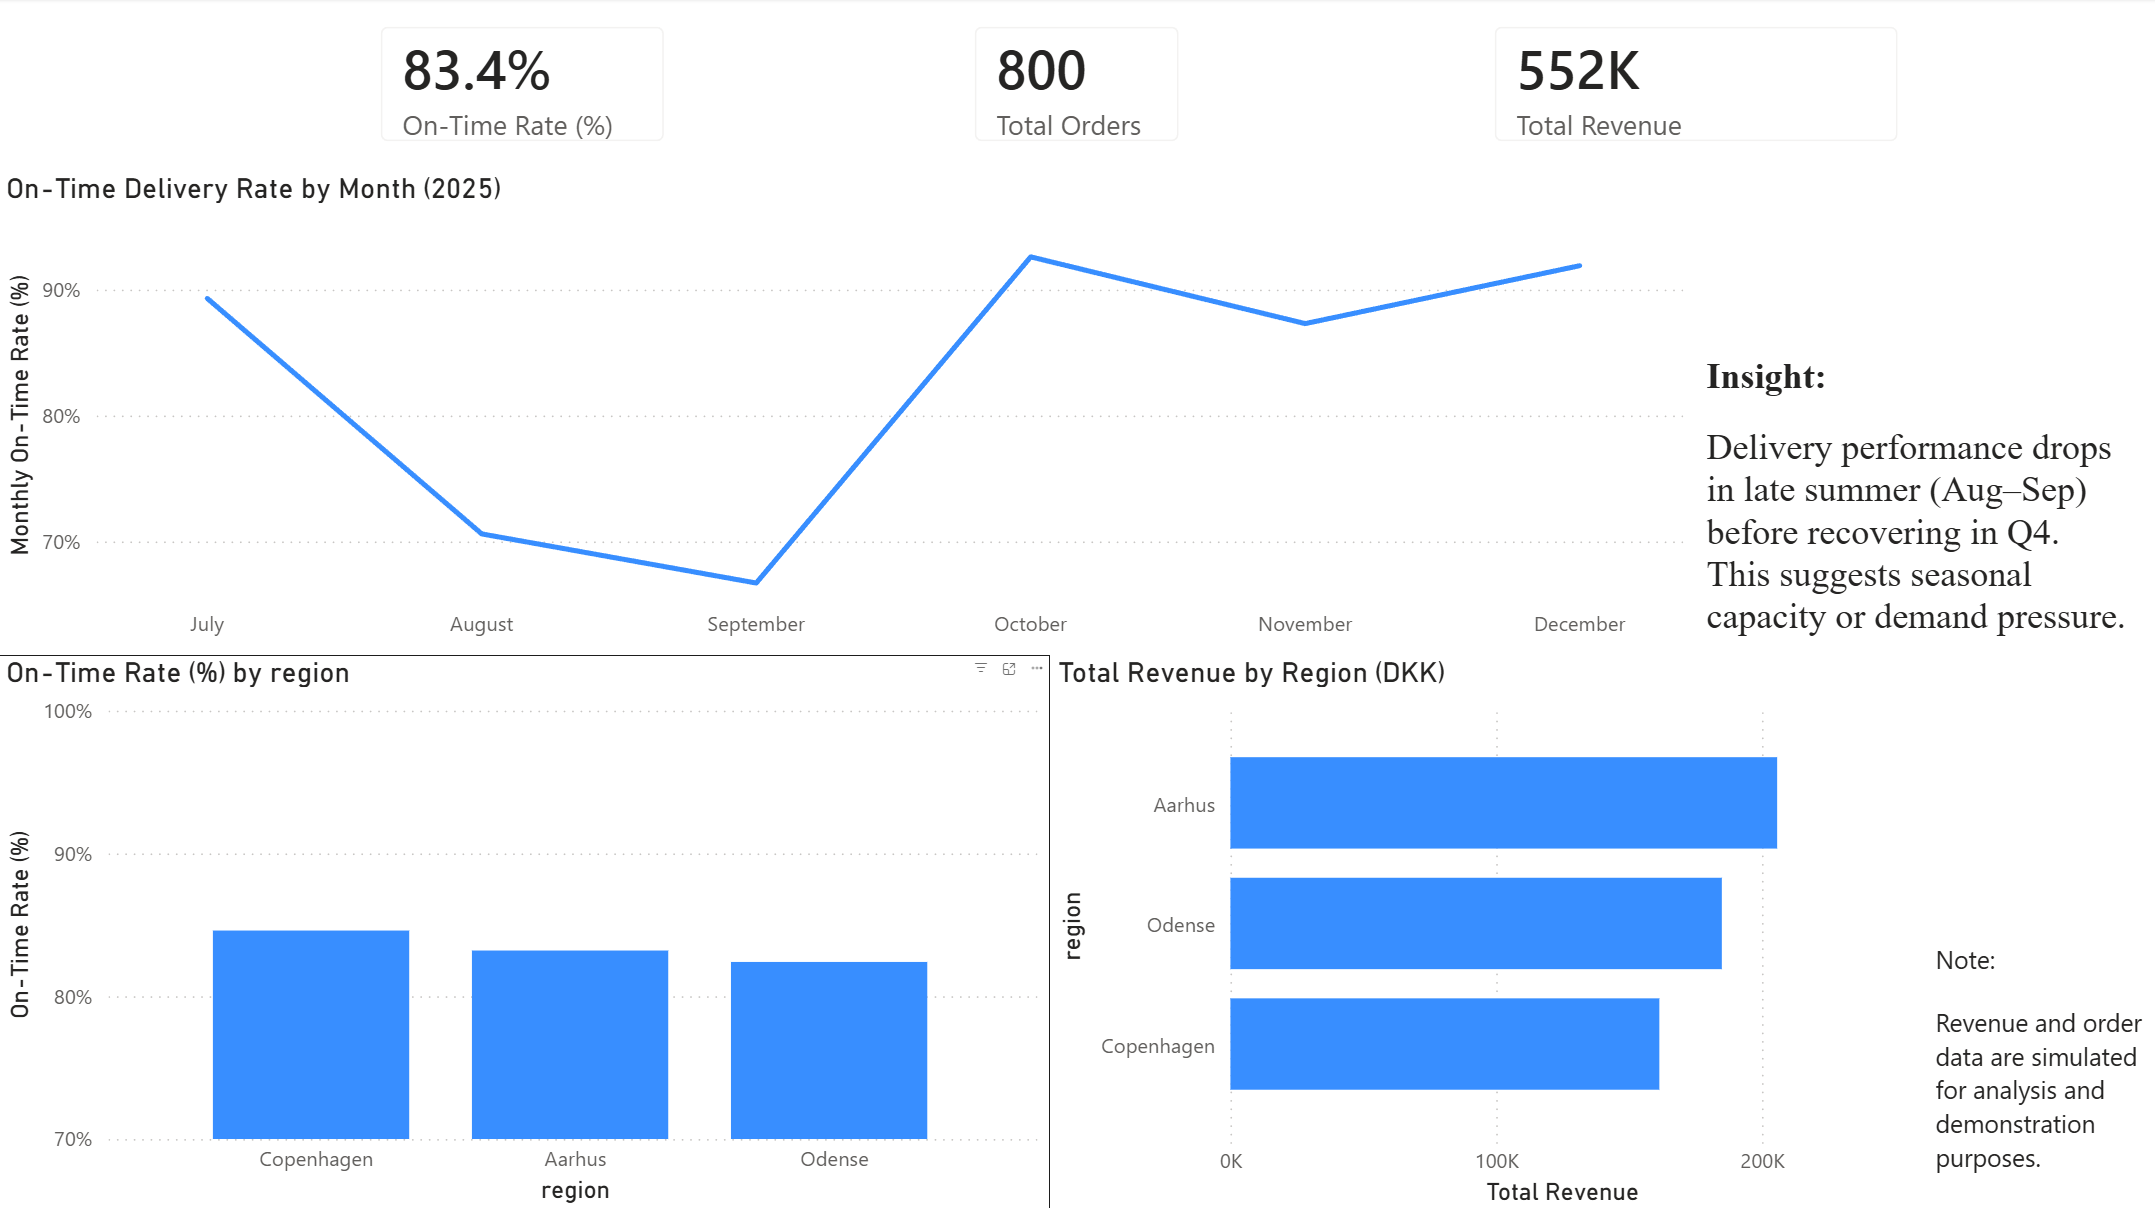

This screenshot's page, from the dashboard's own definition file:
{"tool":"powerbi","page":{"name":"Page 1","canvas":[1280,720],"ordinal":0},"visuals":[{"type":"cardVisual","fields":{"Data":["_Measures .On-Time Rate (%)"]},"box":[210.2,0,202.4,102.7],"z":0},{"type":"cardVisual","fields":{"Data":["_Measures .Total Orders"]},"box":[562.3,0,155.5,102.7],"z":2},{"type":"lineChart","title":"On-Time Delivery Rate by Month (2025)","fields":{"Y":["_Measures .Monthly On-Time Rate (%)"],"Category":["on_time_by_month.month.Variation.Date Hierarchy.Month"]},"box":[0,102.6,1008.2,287.1],"z":3},{"type":"clusteredBarChart","title":"Total Revenue by Region (DKK)","fields":{"Category":["revenue_delivery_by_region.region"],"Y":["_Measures .Total Revenue"]},"box":[624.1,389.7,520,331.4],"z":4},{"type":"clusteredColumnChart","fields":{"Category":["on_time_by_region.region"],"Y":["_Measures .On-Time Rate (%)"]},"box":[0,389.7,624.1,330.1],"z":5},{"type":"textbox","box":[1008.2,207.3,271.8,182.9],"z":6},{"type":"cardVisual","fields":{"Data":["_Measures .Total Revenue"]},"box":[870.9,0,273.2,102.6],"z":7},{"type":"textbox","box":[1144.1,555.4,135.9,164.3],"z":8}]}

Visuals, with their boxes in screenshot pixels (x1, y1, x2, y2), scaled from the page's 1280x720 canvas onto the 2155x1208 screenshot:
cardVisual - _Measures .On-Time Rate (%): [left=354, top=0, right=695, bottom=172]
cardVisual - _Measures .Total Orders: [left=947, top=0, right=1208, bottom=172]
"On-Time Delivery Rate by Month (2025)" lineChart: [left=0, top=172, right=1697, bottom=654]
"Total Revenue by Region (DKK)" clusteredBarChart: [left=1051, top=654, right=1926, bottom=1207]
clusteredColumnChart - on_time_by_region.region x _Measures .On-Time Rate (%): [left=0, top=654, right=1051, bottom=1207]
textbox: [left=1697, top=348, right=2154, bottom=655]
cardVisual - _Measures .Total Revenue: [left=1466, top=0, right=1926, bottom=172]
textbox: [left=1926, top=932, right=2154, bottom=1207]
